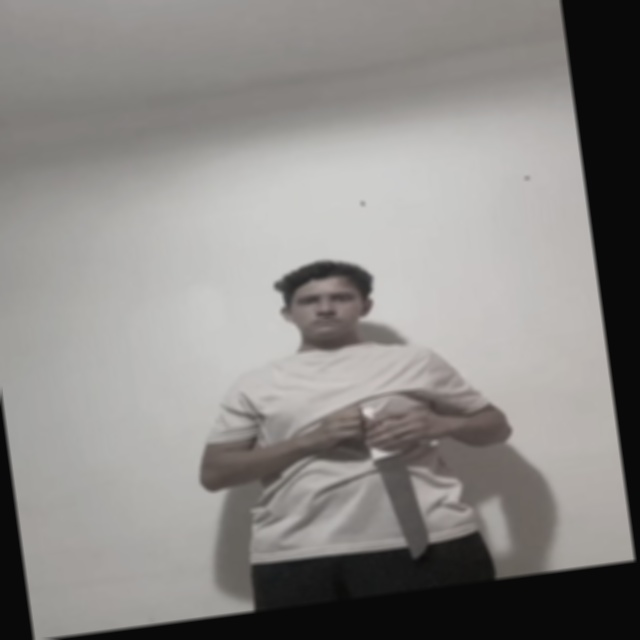Sharp-Object: (381, 451, 428, 558)
